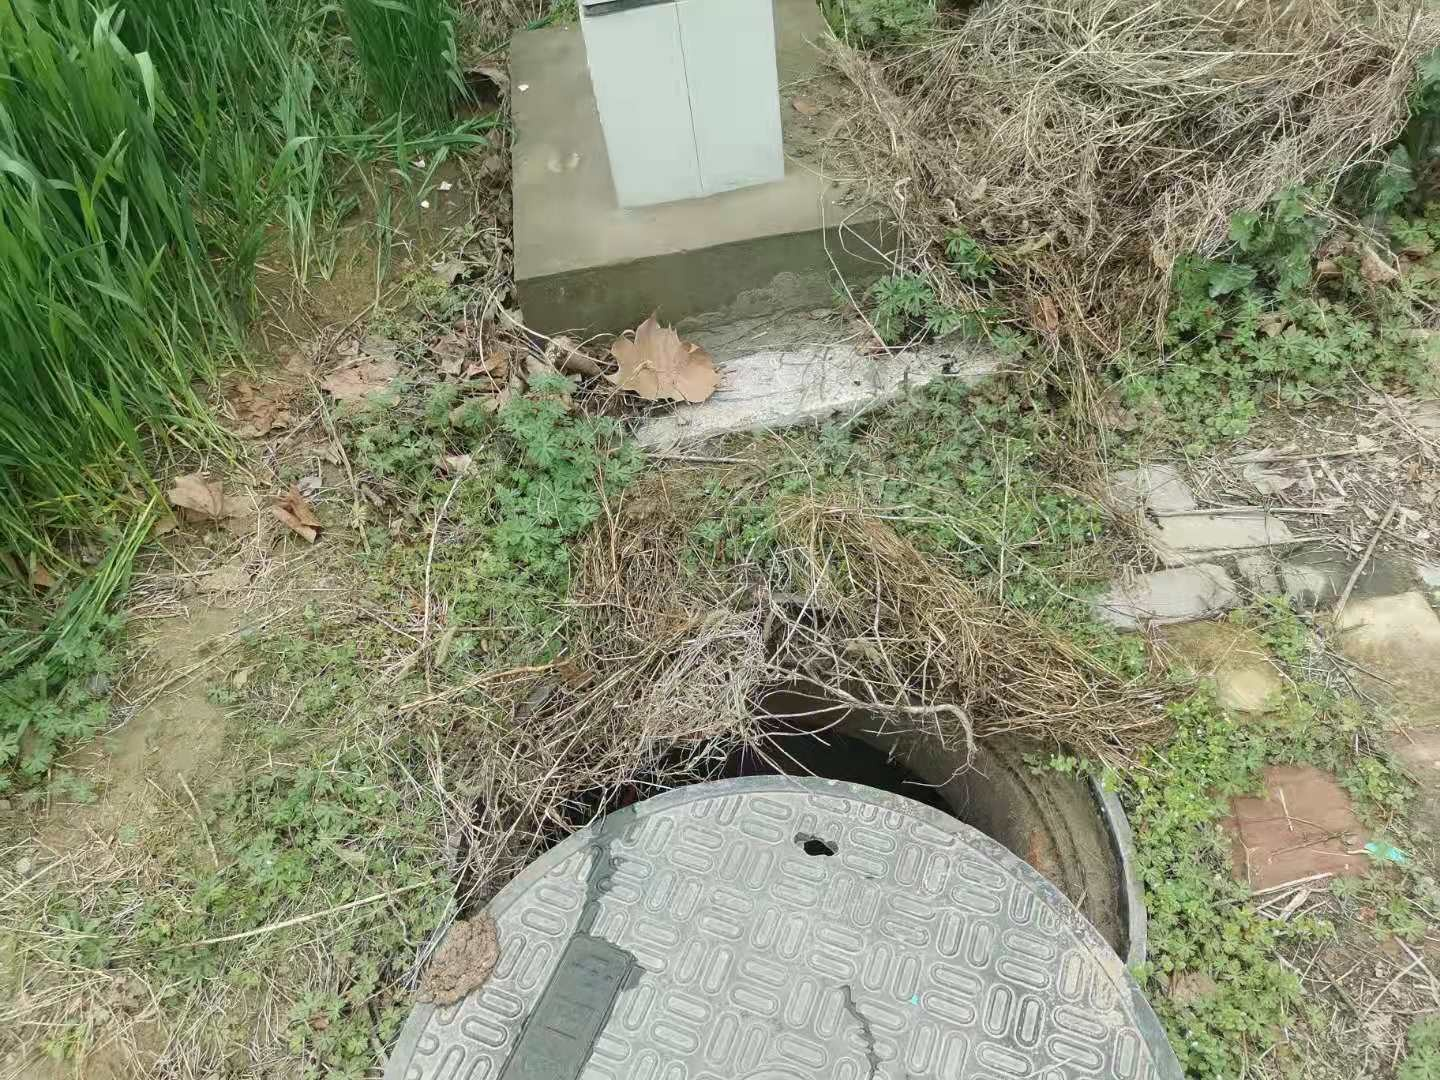uncovered: (381, 667, 1181, 1080)
